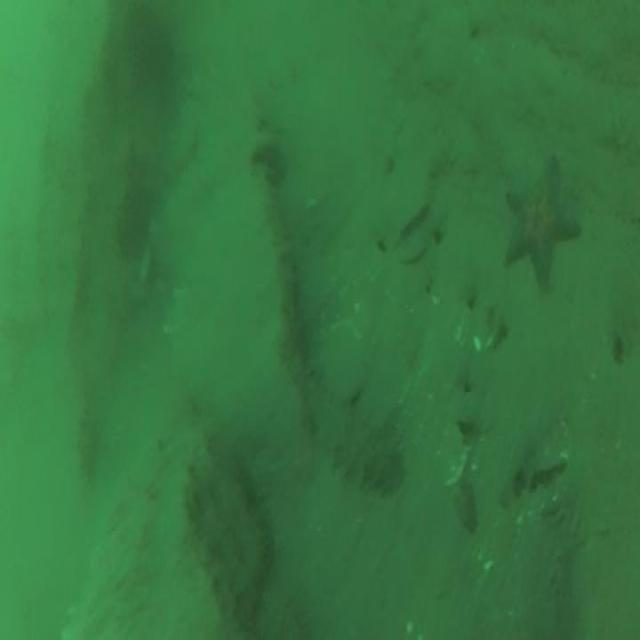holothurian: (294, 360, 404, 495), (261, 164, 303, 348)
scallop: (321, 310, 363, 409)
starfish: (500, 148, 584, 290)
